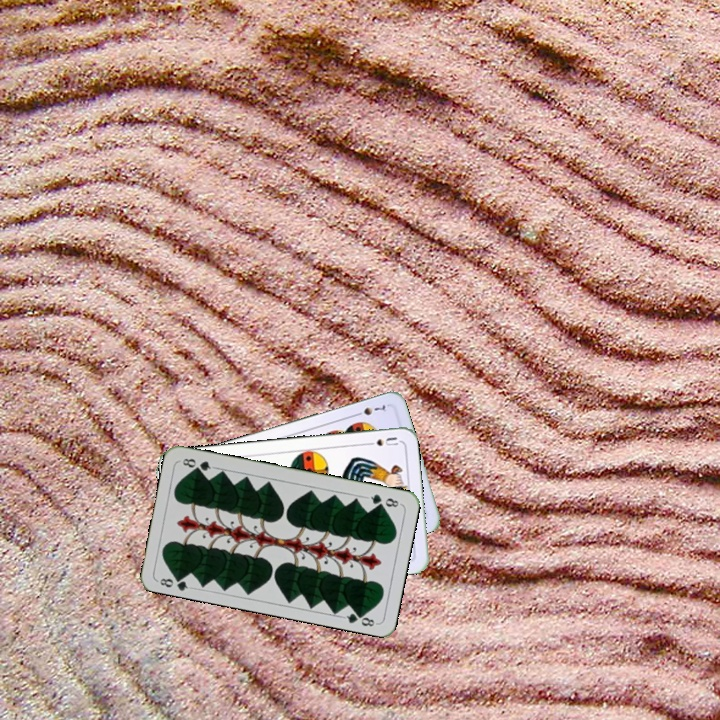G8: (154, 571, 194, 593), (363, 490, 403, 510)
S7: (350, 401, 389, 419)
SU: (361, 433, 401, 449)
